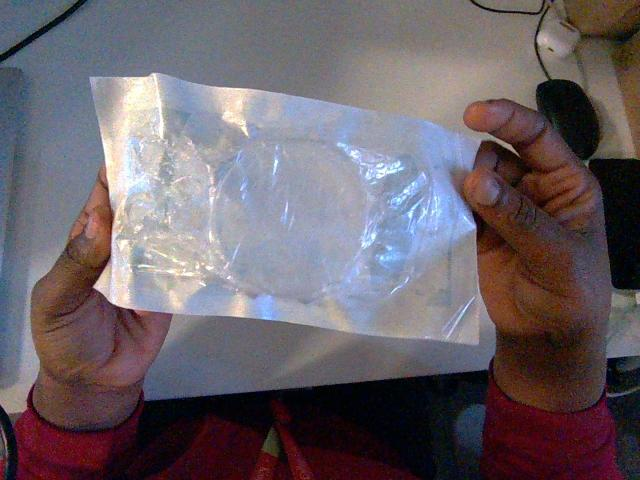gallipot: (92, 74, 480, 342)
